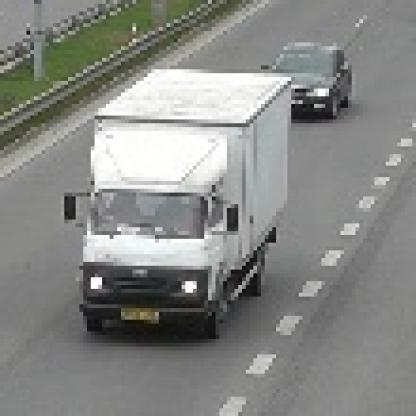truck: (58, 59, 292, 332)
